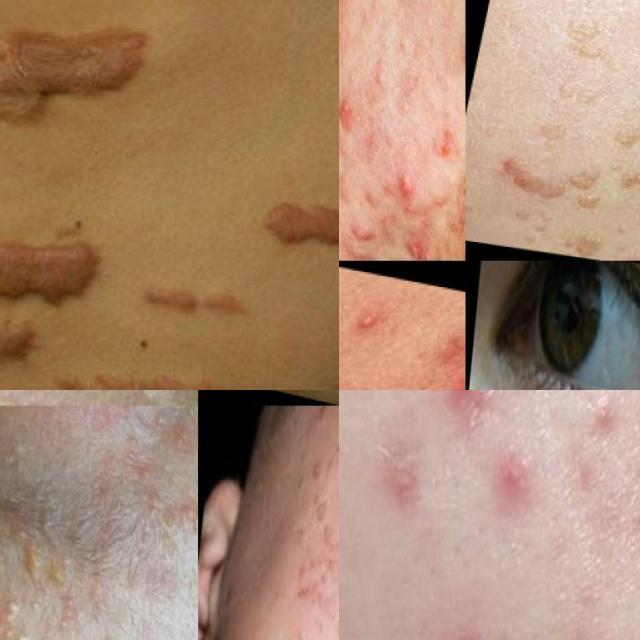acne_scars: (396, 233, 438, 261)
comedone: (0, 585, 35, 640), (363, 0, 391, 16), (339, 248, 363, 260)
flat_wart: (294, 514, 339, 639), (558, 12, 618, 64), (561, 162, 615, 212), (320, 405, 339, 547), (550, 220, 608, 260), (599, 153, 640, 195), (606, 121, 640, 157)
keloid: (0, 20, 159, 183), (0, 235, 111, 311), (134, 276, 258, 328), (46, 359, 249, 390), (252, 194, 339, 254)
milium: (133, 390, 180, 399)
papule: (503, 442, 541, 556), (448, 390, 511, 430)
pustule: (389, 169, 417, 210), (352, 304, 380, 340)
sebo-crystan-conglo: (339, 81, 361, 144)
